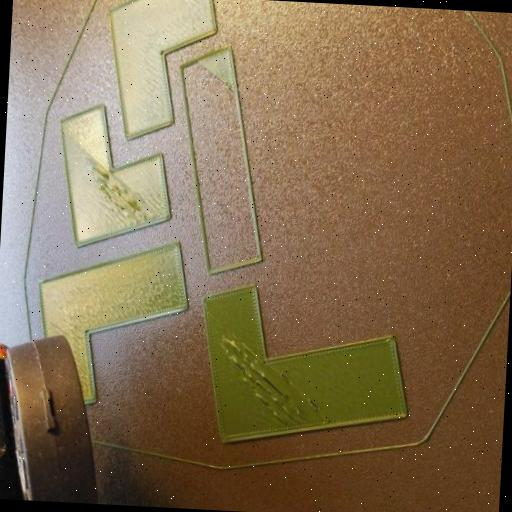cracks: (214, 328, 333, 436), (85, 156, 156, 226)
